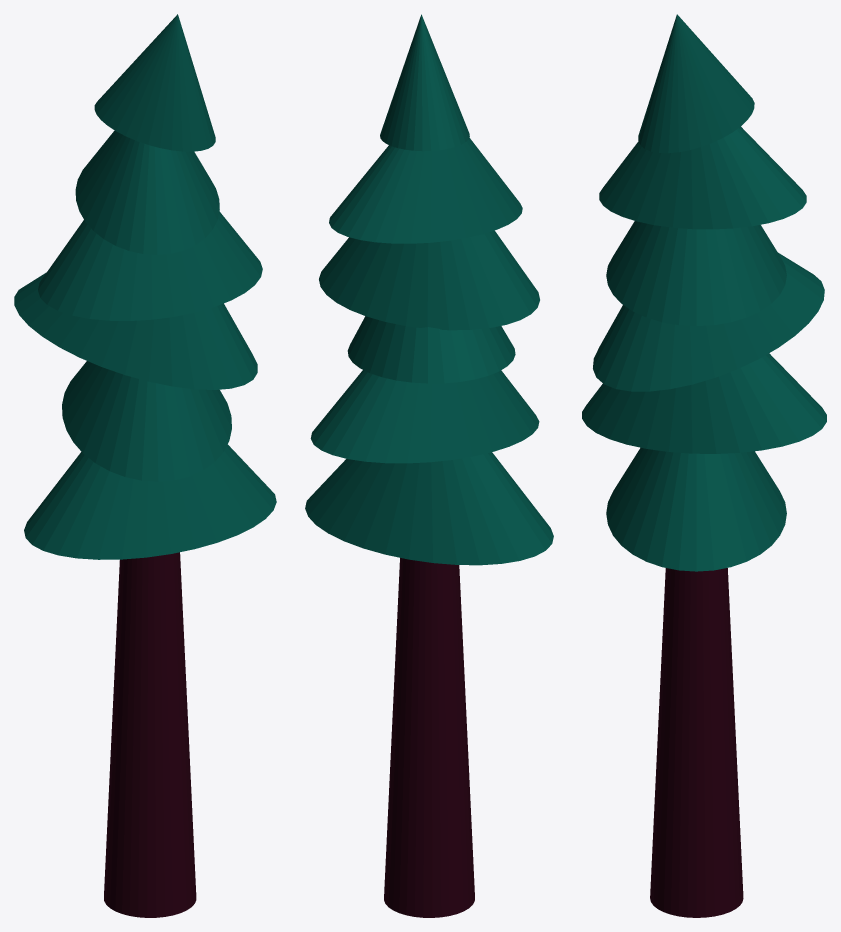
The model's file is tree.glb.
The picture shows the model from 3 angles, left to right: view 1: azimuth 30°, elevation 25°; view 2: azimuth 150°, elevation 25°; view 3: azimuth 270°, elevation 25°; orthographic projection. The views are drawn at different scales.
Visible parts, largest first — view 1: Cylinder, Cone, Cone.005, Cone.001, Cone.002, Cone.004, Cone.003; view 2: Cylinder, Cone, Cone.005, Cone.001, Cone.004, Cone.002, Cone.003; view 3: Cylinder, Cone, Cone.001, Cone.005, Cone.004, Cone.002, Cone.003.
Boxes of the visible parts, x1,y1,x2,y2 form: Cylinder: (104,552,196,917); Cone: (24,444,276,559); Cone.005: (38,211,262,320); Cone.001: (62,361,231,481); Cone.002: (14,272,257,389); Cone.004: (75,130,219,254); Cone.003: (94,14,215,151); Cylinder: (384,558,474,917); Cone: (305,452,553,565); Cone.005: (319,230,539,330); Cone.001: (310,370,539,463); Cone.004: (329,138,522,243); Cone.002: (347,316,515,383); Cone.003: (380,14,469,151); Cylinder: (650,568,743,917); Cone: (606,447,786,571); Cone.001: (582,353,826,453); Cone.005: (606,221,786,326); Cone.004: (599,126,806,229); Cone.002: (593,252,824,391); Cone.003: (638,14,754,153).
Bounding box in the file's own units: 5.88 × 21.09 × 5.24.
